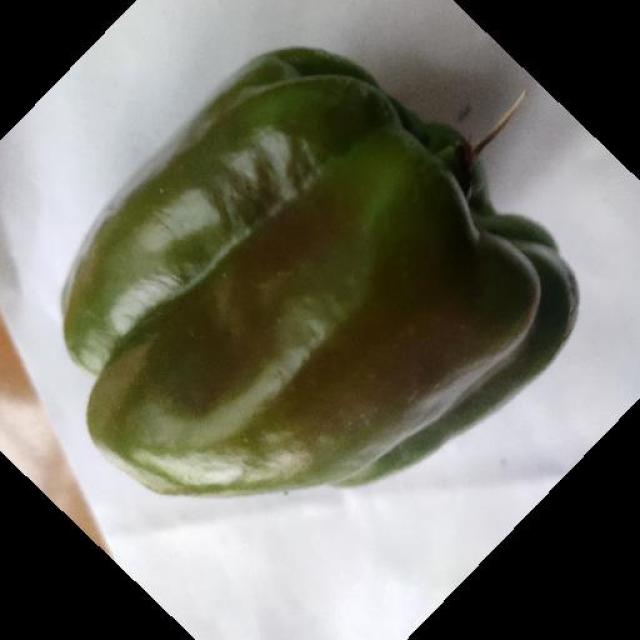Stale_Capsicum: (88, 60, 546, 486)
